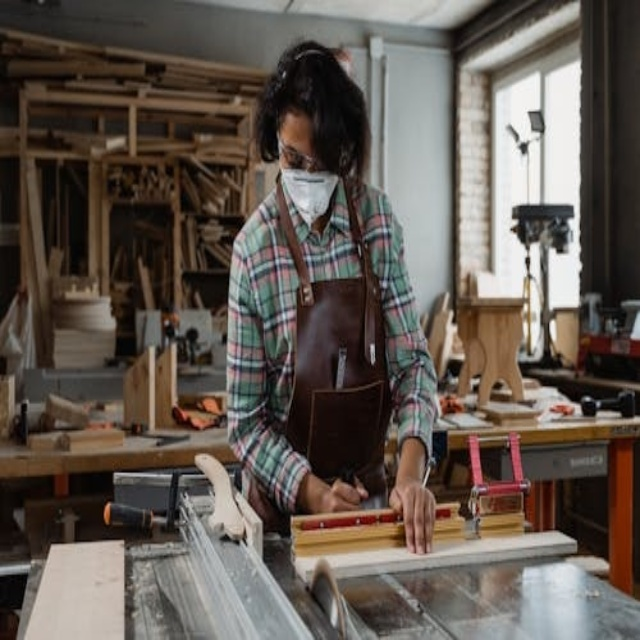Gafas: (278, 132, 331, 172)
Mascara: (281, 157, 341, 226)
Sin_guantes: (388, 463, 443, 557), (308, 467, 371, 536)
